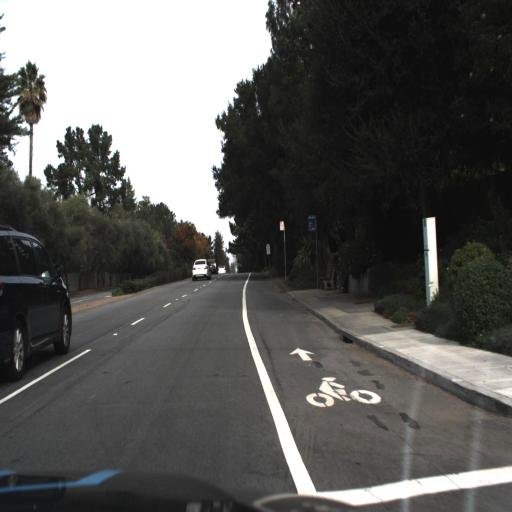car: (0, 217, 73, 381), (190, 257, 215, 285), (205, 258, 216, 275), (217, 262, 228, 279)
